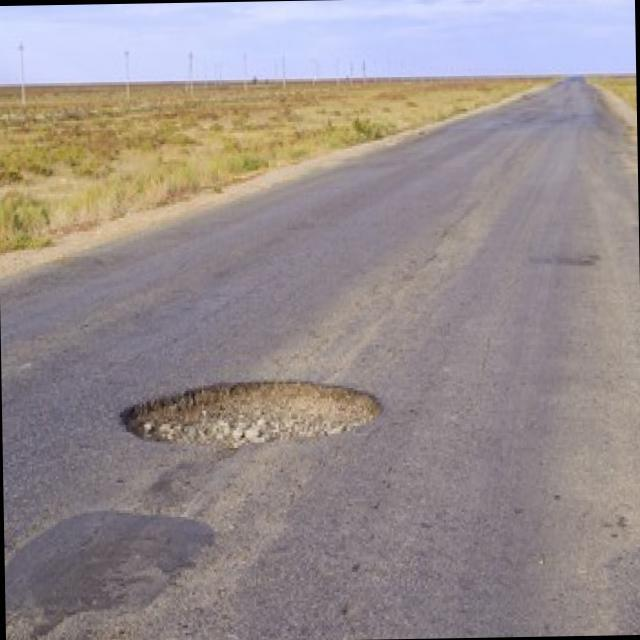Pothole: (117, 379, 384, 449)
